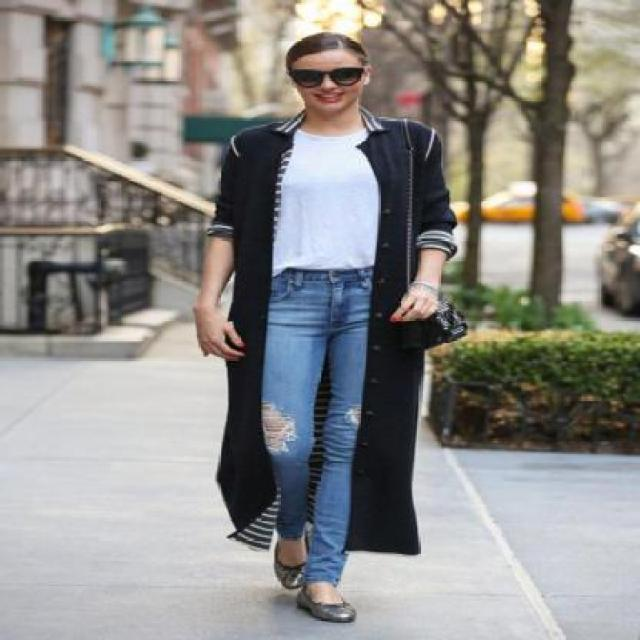Person: (155, 0, 487, 638)
